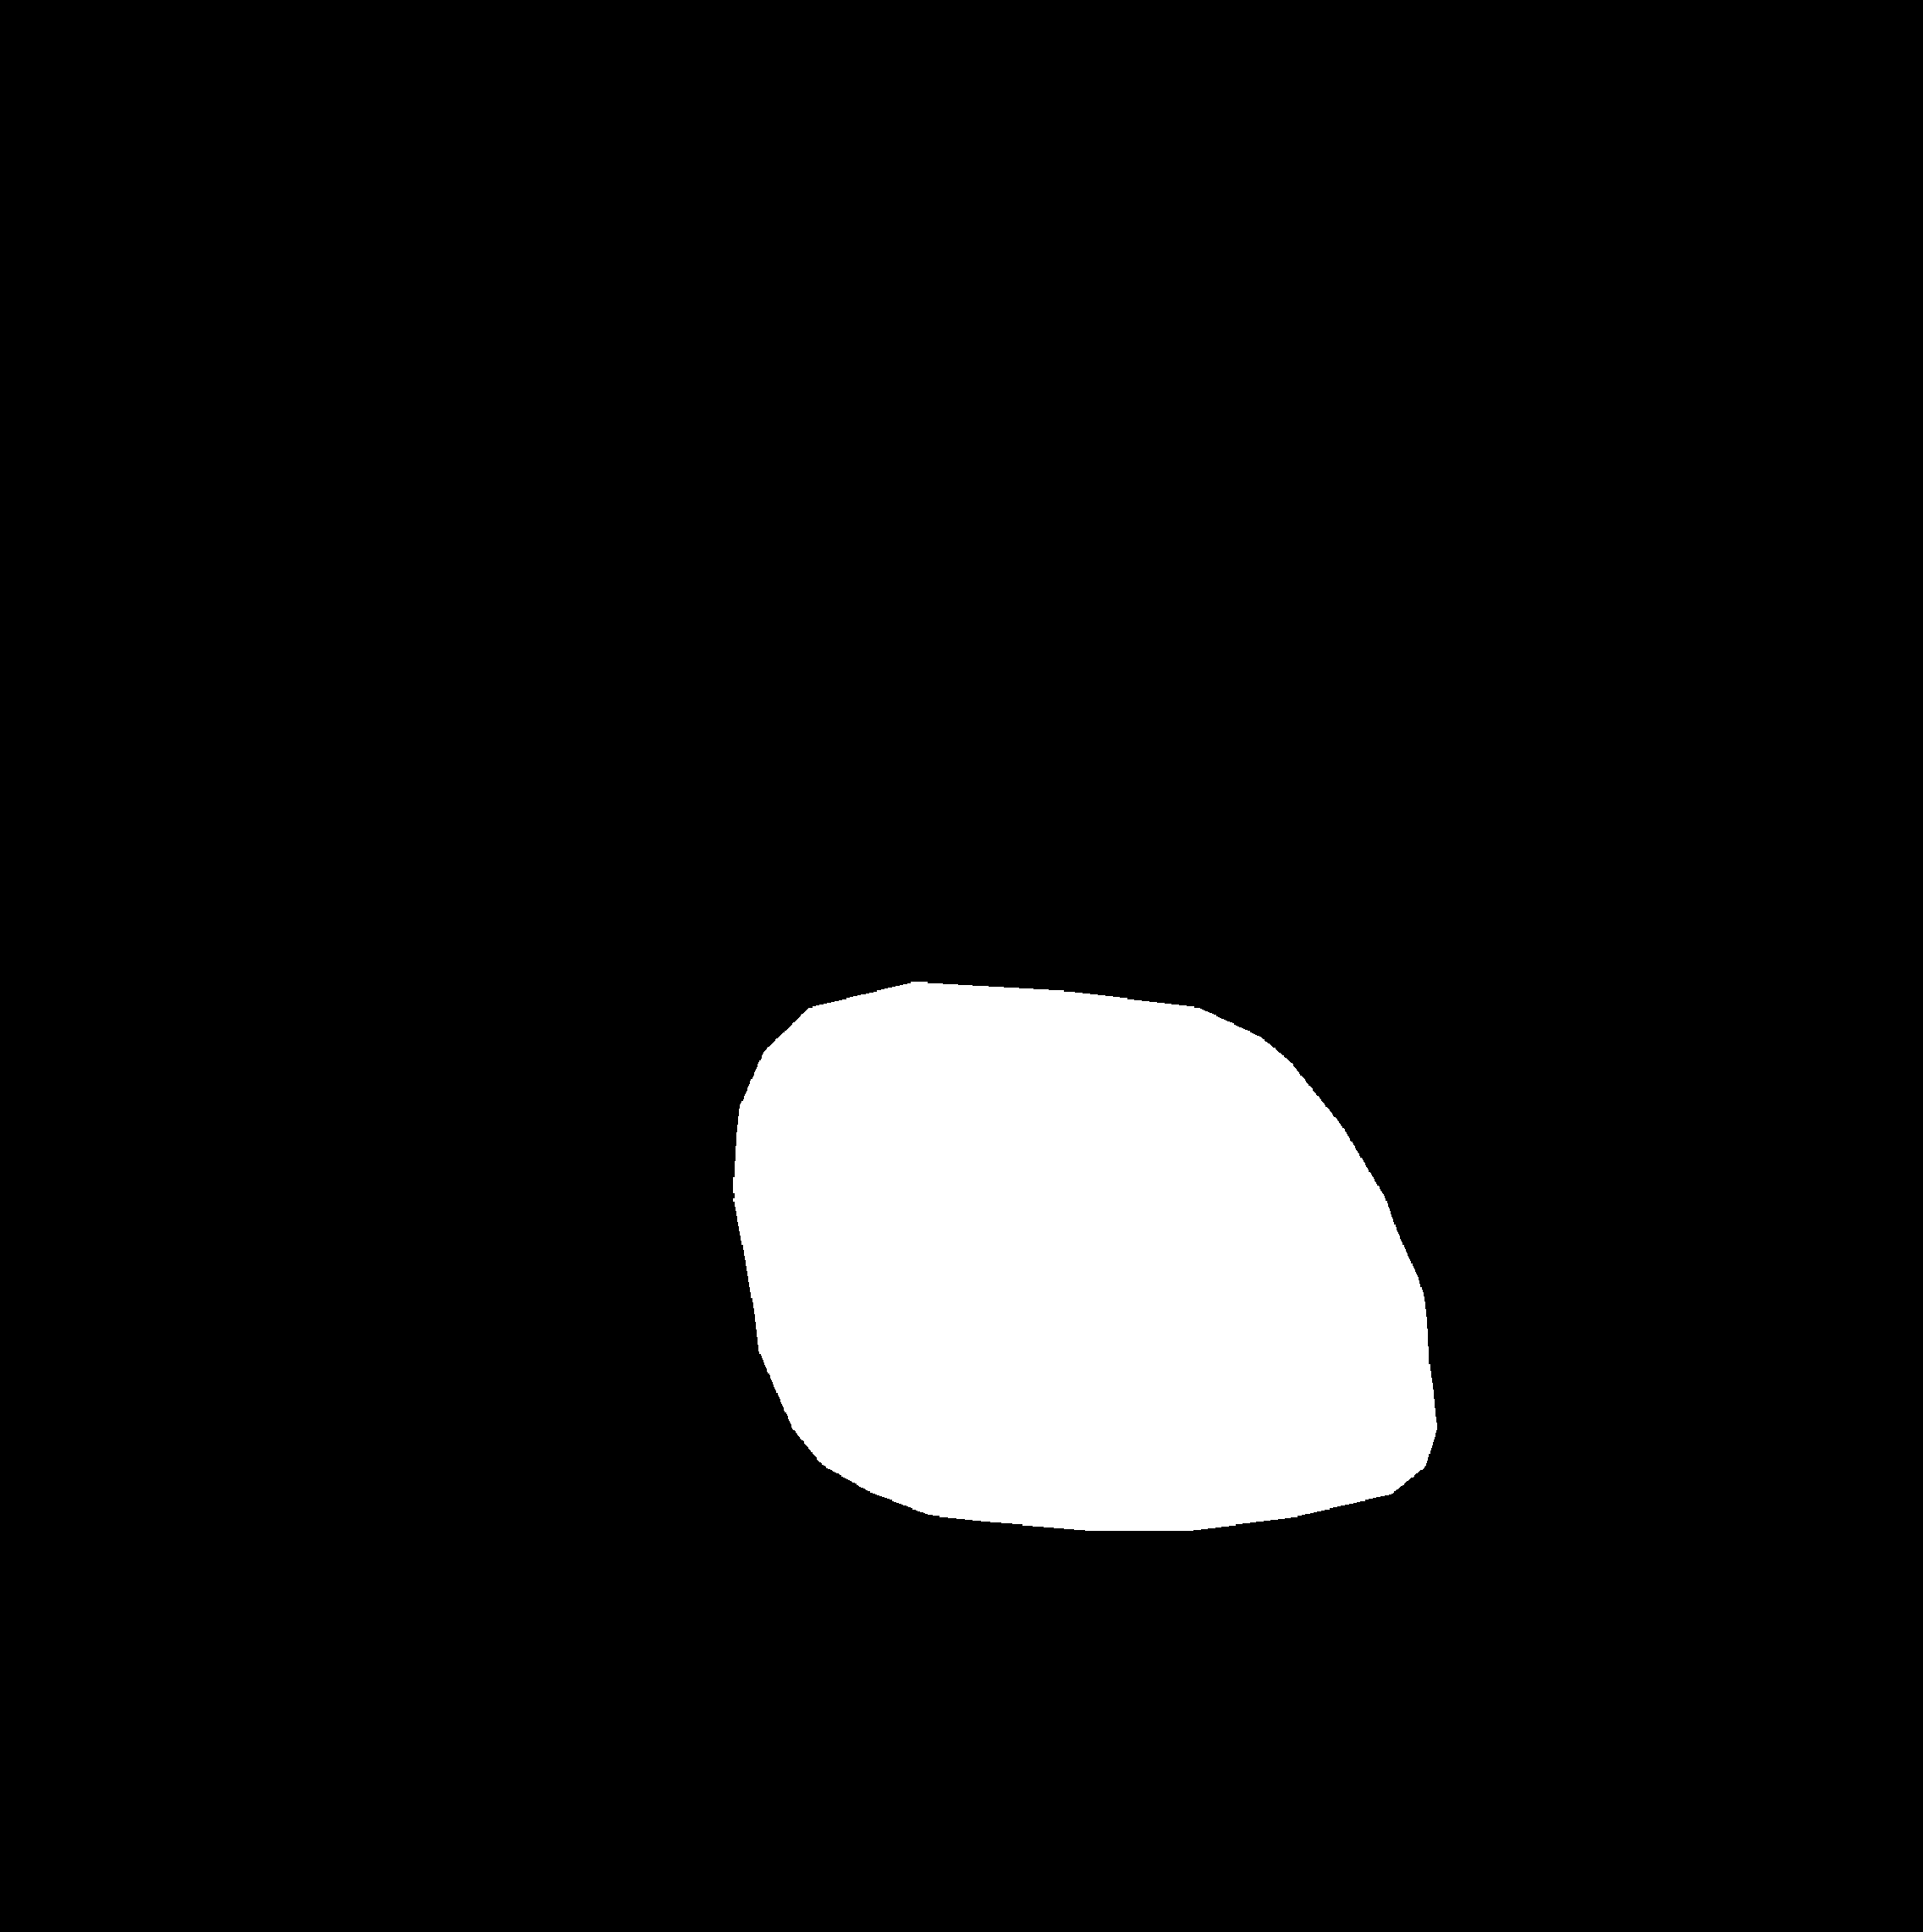heart: (729, 995, 1428, 1550)
left_lung: (227, 92, 972, 1601)
right_lung: (1102, 83, 1713, 1627)
